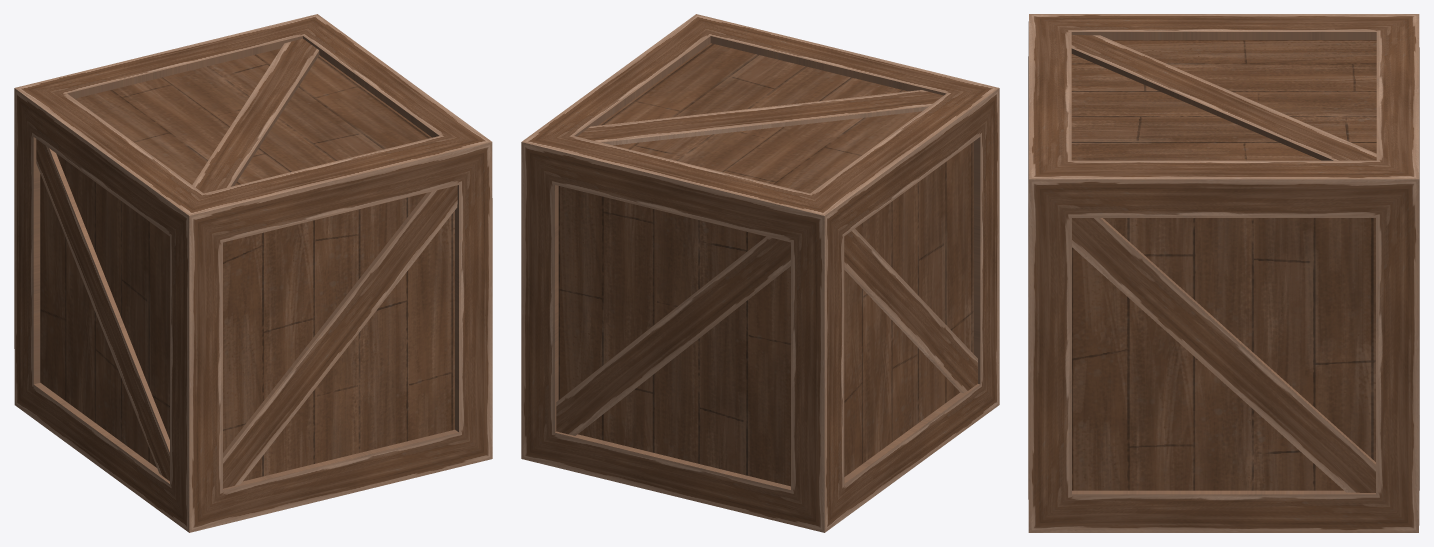
Rendered from SM_Crate_01.fbx.
3 views of the same model, side by side, from view 1: azimuth 30°, elevation 25°; view 2: azimuth 150°, elevation 25°; view 3: azimuth 270°, elevation 25° (orthographic). The views are drawn at different scales.
Visible parts, largest first — view 1: SM_Crate_01; view 2: SM_Crate_01; view 3: SM_Crate_01.
Boxes of the visible parts, box(x1,y1,x2,y2) form: SM_Crate_01: box(14, 14, 492, 532); SM_Crate_01: box(521, 14, 999, 532); SM_Crate_01: box(1028, 14, 1419, 532).
Bounding box in the file's own units: 401 × 400 × 401.
